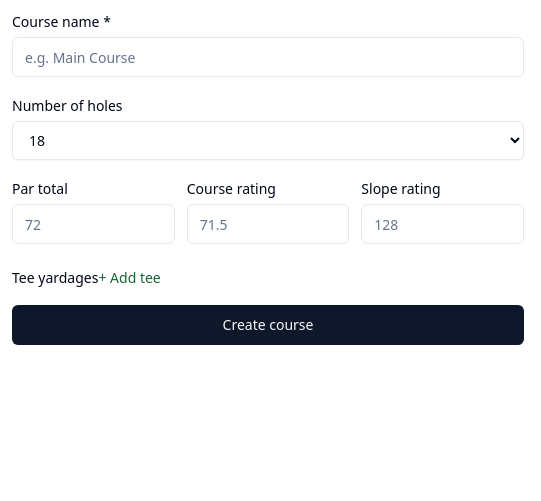
Scenario: CourseForm — tee row interactions › can add up to 3 tee rows
This screenshot has width=541, height=501.
Click the button "+ Add tee" at [130, 278], box [98, 268, 161, 288]
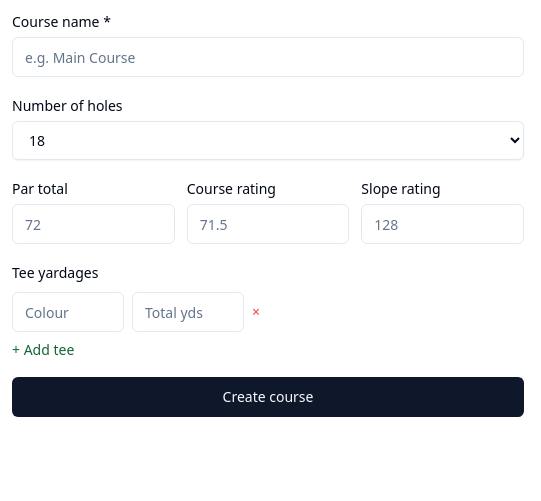
Click the button "+ Add tee" at [43, 350], box [12, 340, 74, 360]
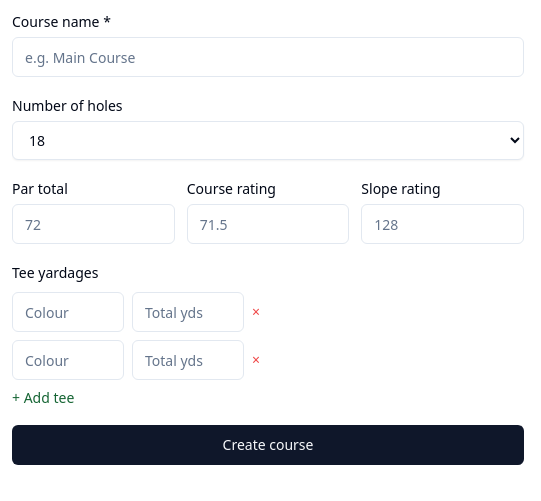
Click the button "+ Add tee" at [43, 398], box [12, 388, 74, 408]
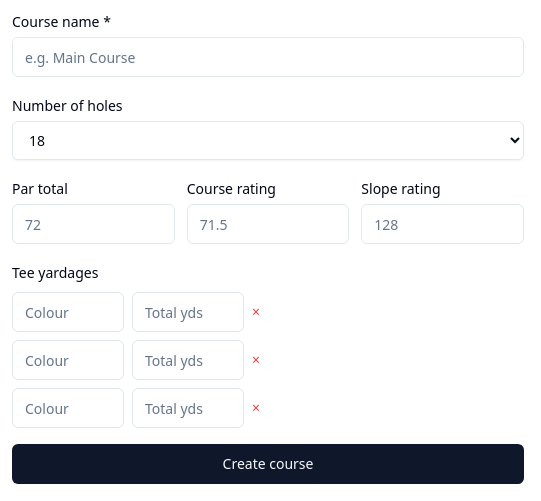
Check: the button "Add tee" is gone
